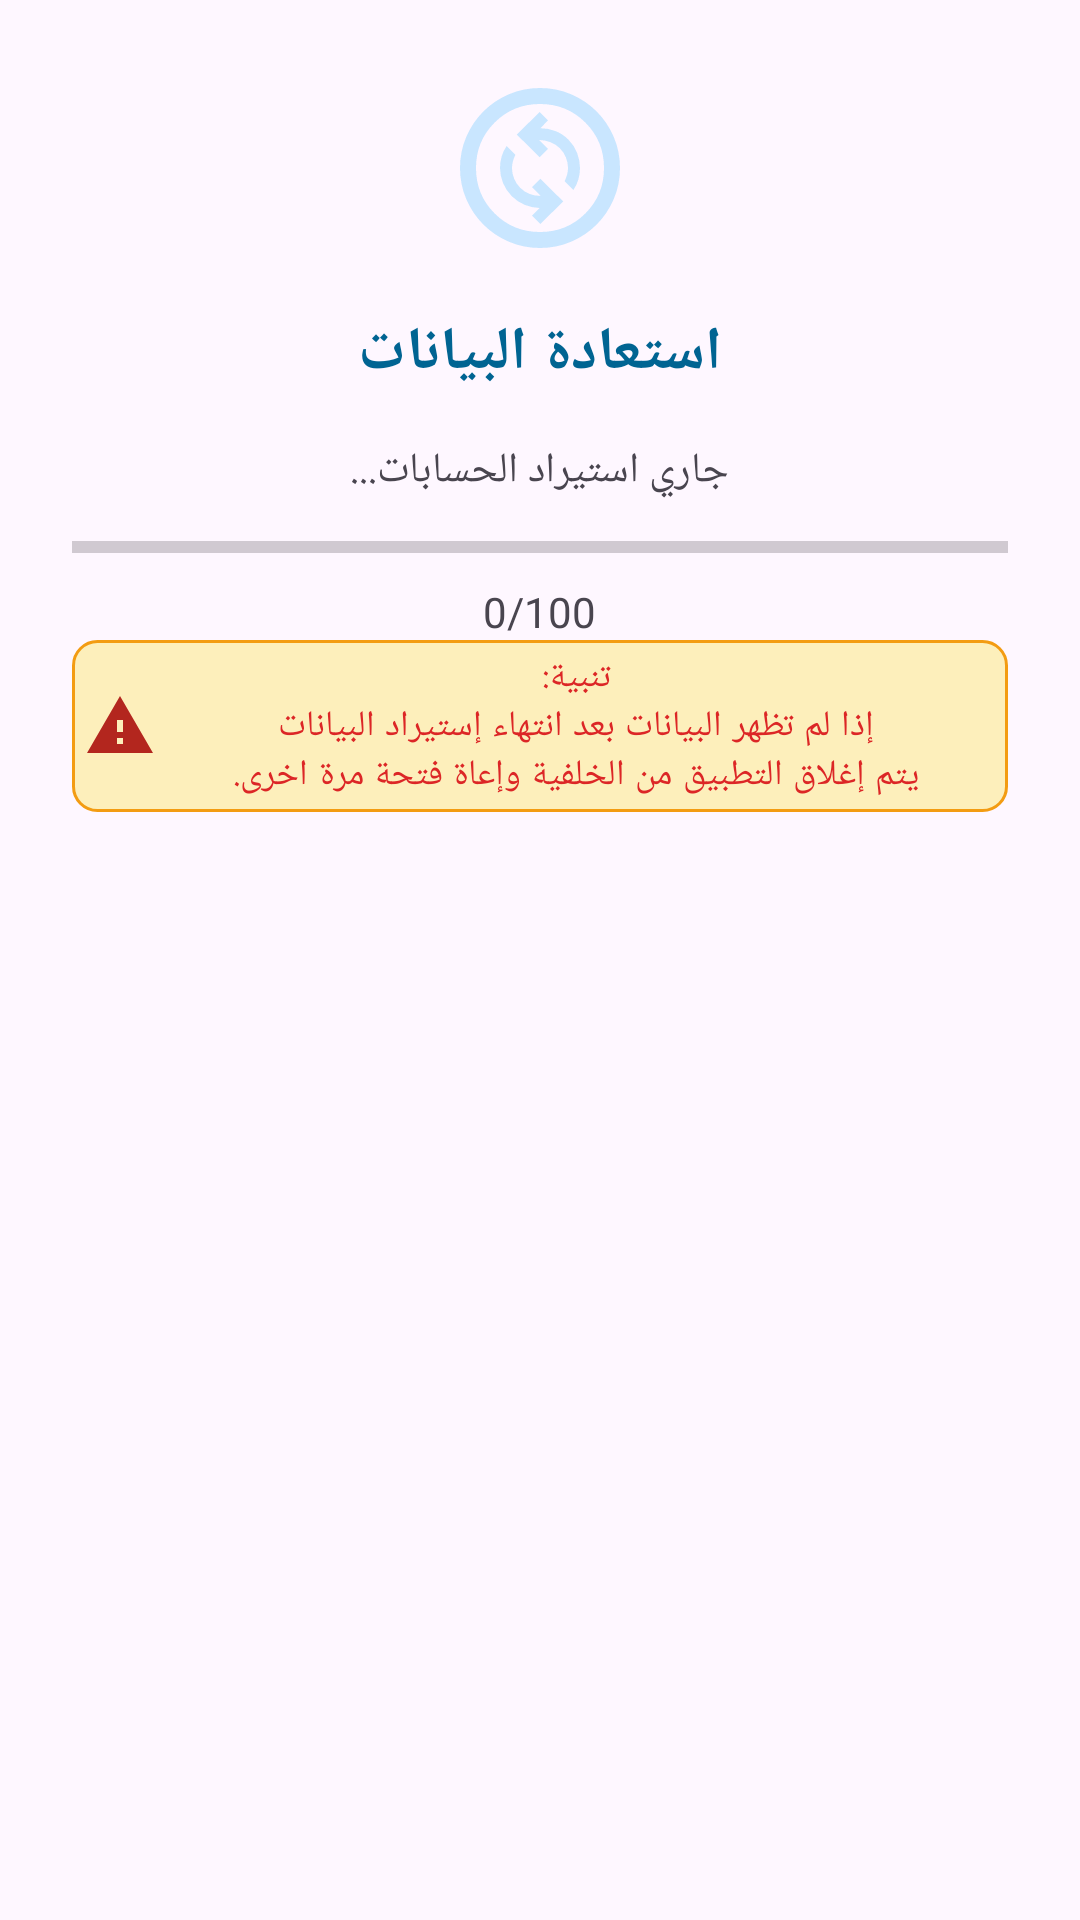

Where to tap for icons on this 1080w x 1920h app screen, as point (x, y):
sync: point (540, 168)
